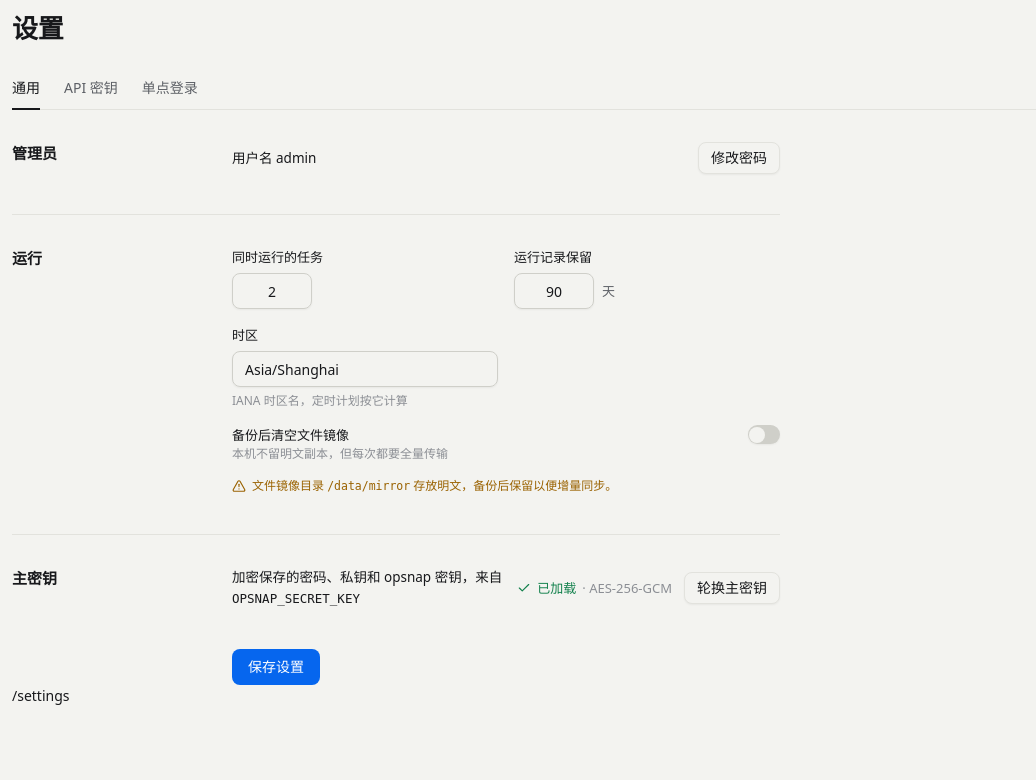
Test: 设置 · 通用 › 保存时整体提交四项设置
Replace the text in the field labelled "同时运行的任务" with "3": (272, 291) left=232, top=273, right=312, bottom=309
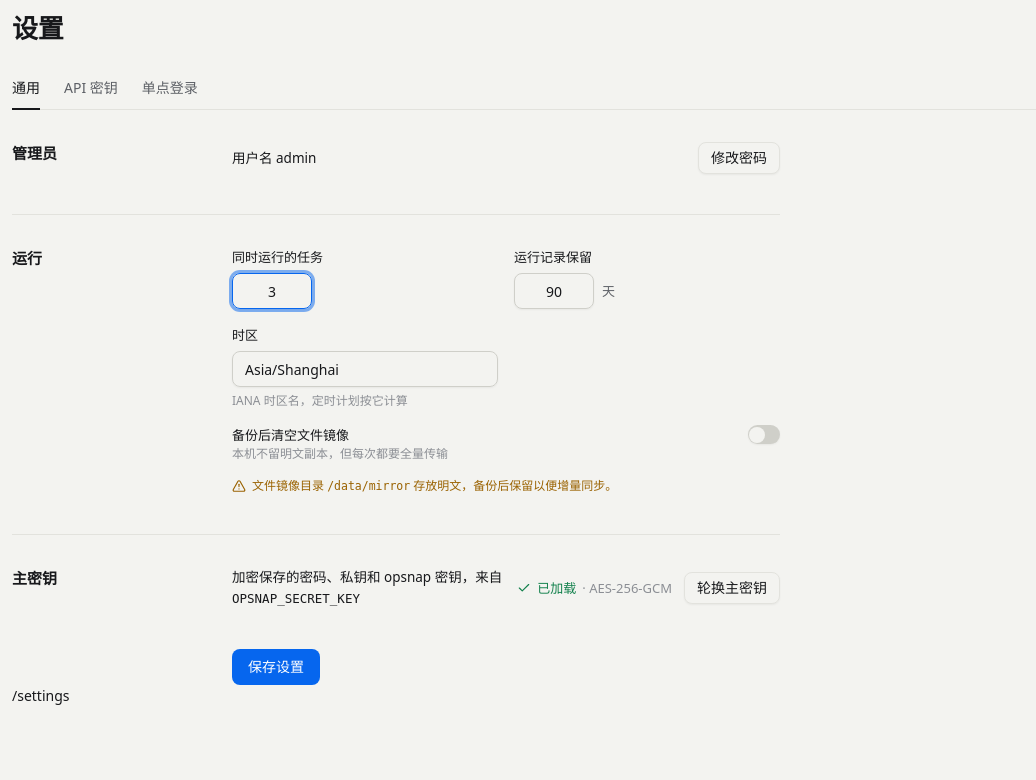
Click the switch named "备份后清空文件镜像": click(764, 435) left=748, top=426, right=780, bottom=444
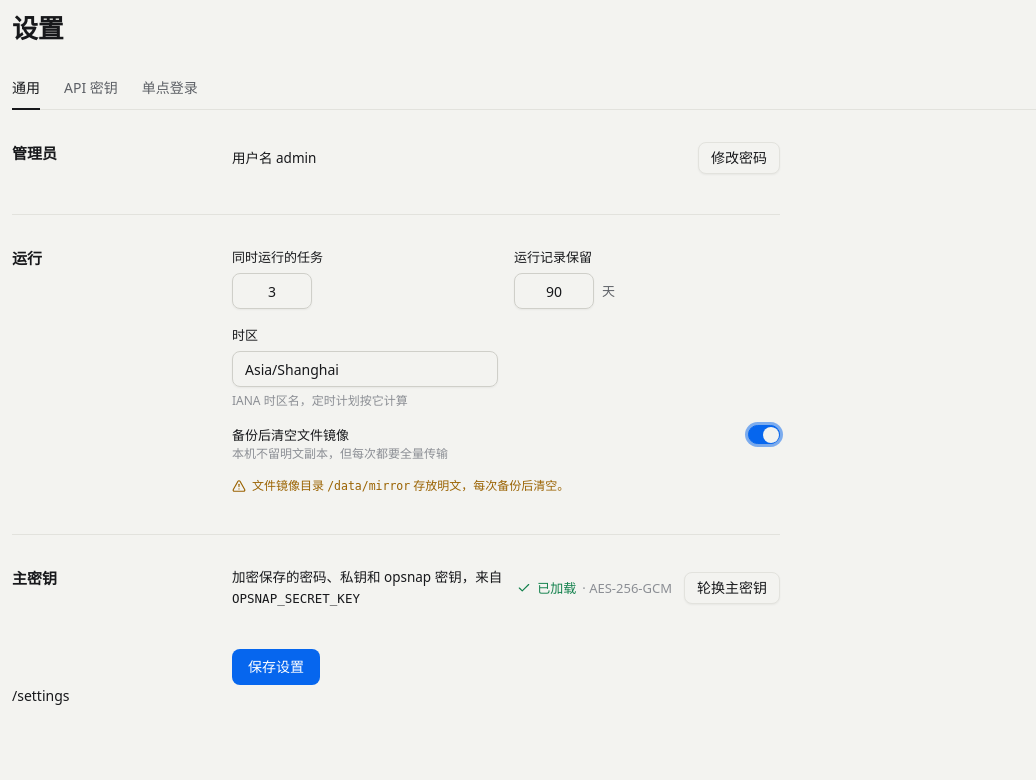
Click the button "保存设置": click(276, 667) left=232, top=649, right=320, bottom=685
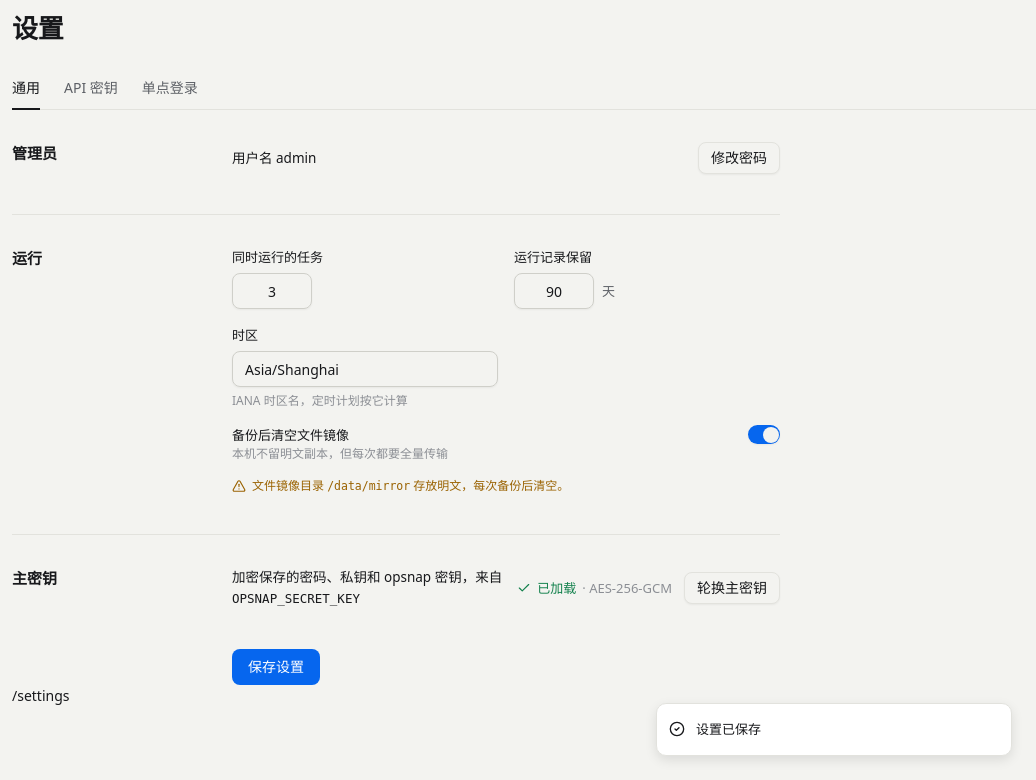
Now the text "设置已保存" is shown, box left=696, top=720, right=761, bottom=739
